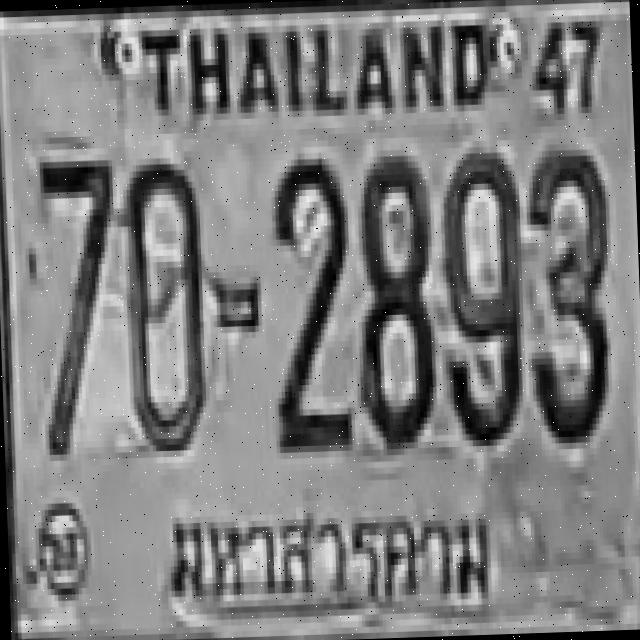0: (120, 154, 208, 448)
2: (266, 152, 352, 446)
3: (522, 142, 611, 438)
7: (36, 153, 121, 454)
8: (352, 148, 434, 444)
9: (438, 146, 524, 440)
MahaSarakham: (155, 470, 517, 640)
